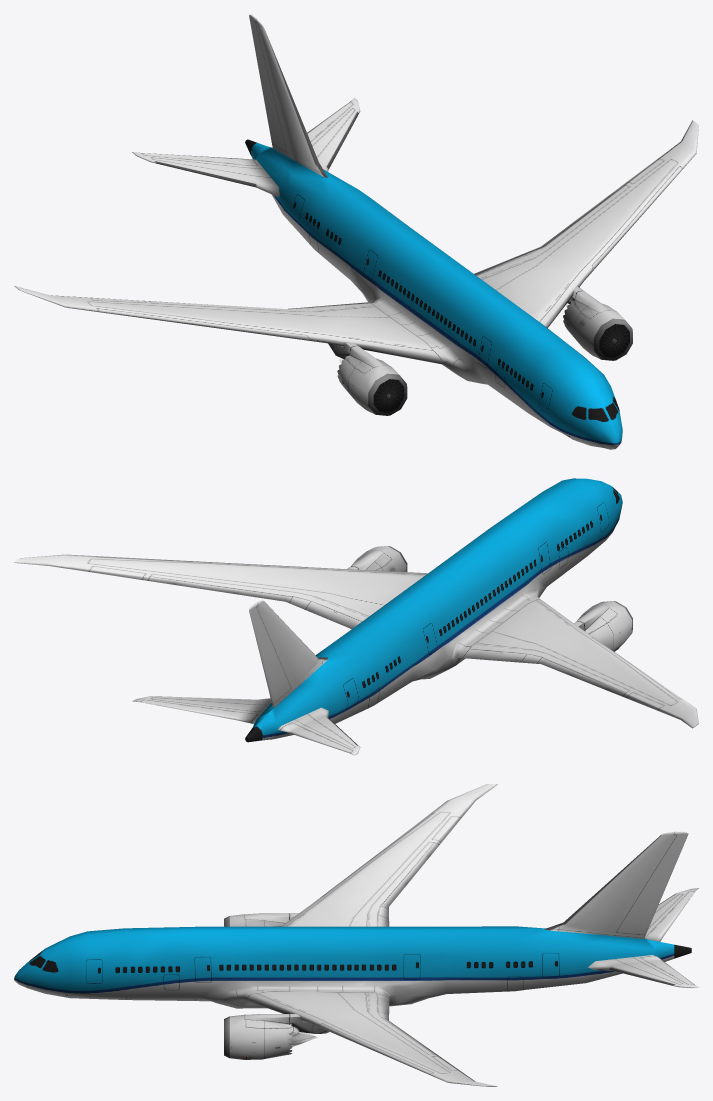
The picture shows the model from 3 angles, top to bottom: view 1: azimuth 30°, elevation 25°; view 2: azimuth 150°, elevation 25°; view 3: azimuth 270°, elevation 25°; orthographic projection. The views are drawn at different scales.
Parts seen in each view (by area): view 1: fuselage group3 group2 group1, group3 group2 group1 engine; view 2: fuselage group3 group2 group1, group3 group2 group1 engine; view 3: fuselage group3 group2 group1, group3 group2 group1 engine.
Boxes of the visible parts, x1,y1,x2,y2 form: fuselage group3 group2 group1: (14,14,698,449); group3 group2 group1 engine: (328,286,632,415); fuselage group3 group2 group1: (14,478,698,755); group3 group2 group1 engine: (347,546,632,651); fuselage group3 group2 group1: (14,784,698,1086); group3 group2 group1 engine: (224,913,329,1059).
Bounding box in the file's own units: 2.08 × 0.5651 × 1.99.
